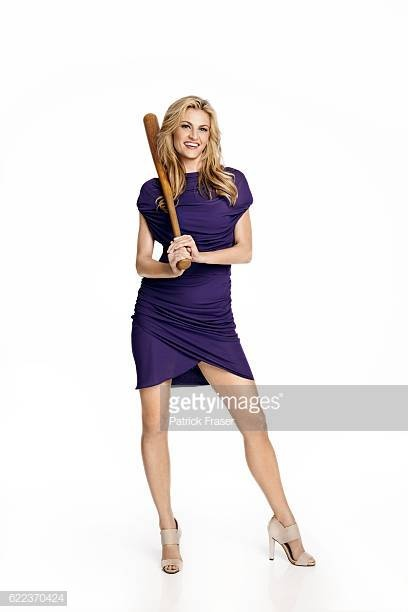bita: (143, 114, 189, 262)
